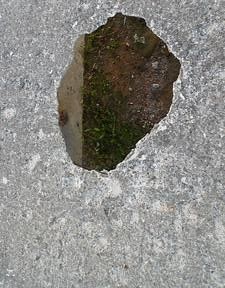Spalling: (56, 12, 182, 174)
